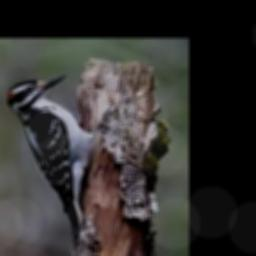Woodpecker: (7, 74, 96, 242)
